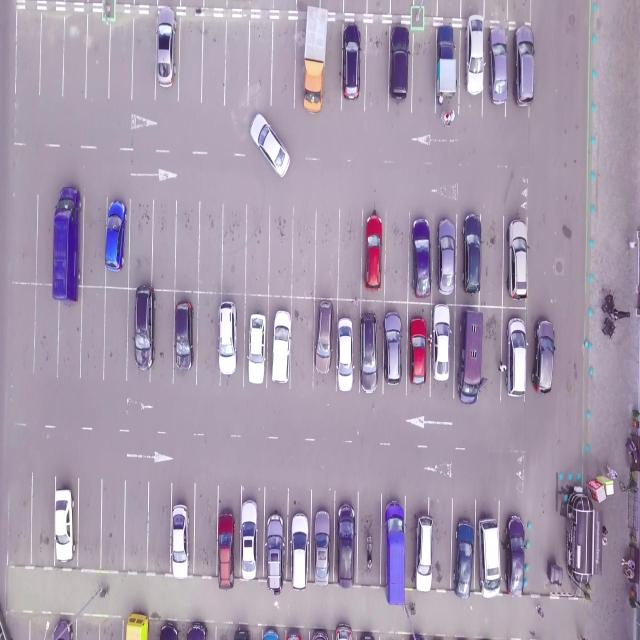Car: (250, 113, 290, 180), (168, 485, 192, 587), (478, 518, 502, 599), (133, 285, 155, 370), (505, 316, 527, 395), (506, 219, 528, 298), (533, 320, 556, 394), (156, 7, 177, 88), (514, 26, 535, 106), (506, 514, 526, 595), (454, 518, 474, 598), (462, 214, 482, 294), (105, 201, 127, 272), (488, 27, 508, 105), (54, 489, 75, 563), (431, 304, 451, 381), (314, 300, 334, 377), (341, 24, 361, 101), (465, 15, 484, 96), (266, 513, 285, 593), (436, 25, 456, 101), (412, 218, 431, 297), (272, 311, 292, 385), (389, 26, 409, 100), (337, 504, 355, 586), (438, 218, 457, 295), (248, 313, 268, 386), (415, 512, 433, 593), (174, 300, 194, 372), (360, 313, 378, 393), (218, 301, 237, 376), (241, 500, 259, 579), (290, 512, 308, 591), (384, 312, 402, 390), (365, 212, 383, 290), (336, 317, 354, 392), (218, 511, 235, 588), (314, 510, 331, 587), (409, 316, 427, 386), (303, 60, 324, 112), (52, 618, 74, 640), (159, 621, 179, 640), (186, 623, 206, 640), (335, 623, 352, 640), (366, 536, 373, 570), (234, 626, 250, 640), (262, 627, 279, 640), (311, 629, 328, 640), (536, 604, 544, 618), (413, 633, 427, 640)
Van: (52, 188, 81, 302), (565, 489, 597, 582), (459, 310, 484, 402), (384, 502, 404, 605), (125, 612, 149, 639)
